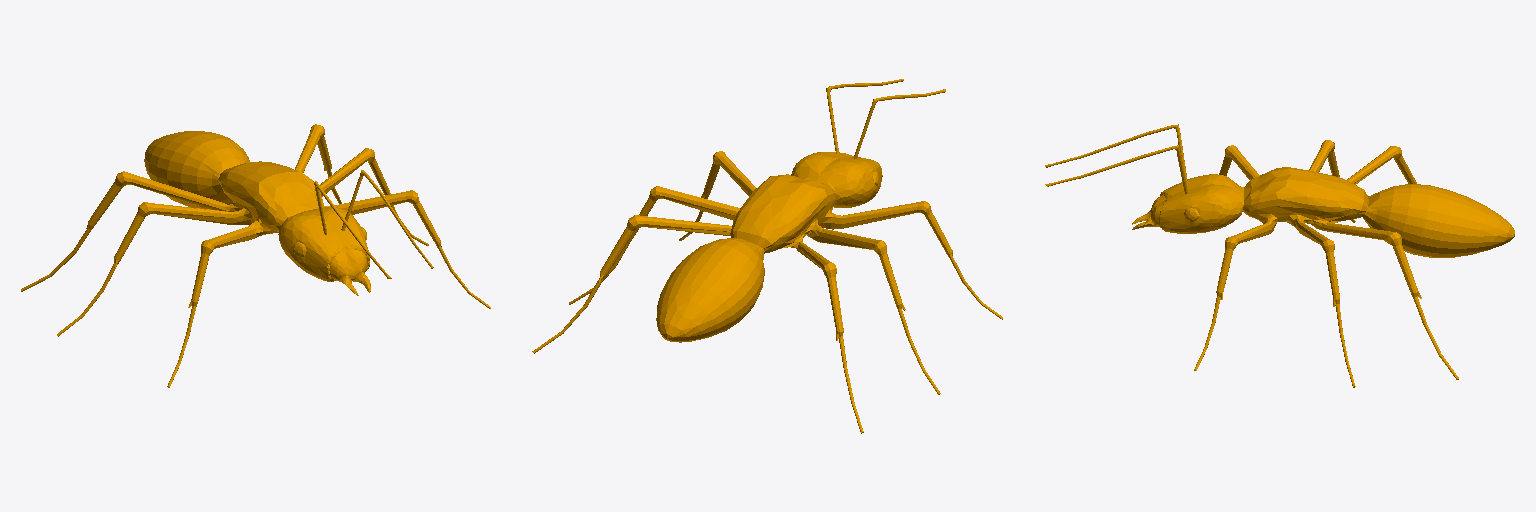
robot.urdf — object:
<?xml version="1.0"?>
<robot name="object">
  <link name="base_link"> <!-- required name-->
    <inertial>
      <origin xyz="0 0 0" /> 
      <mass value="1.0" />
      <inertia  ixx="1.0" ixy="0.0"  ixz="0.0"  iyy="1.0"  iyz="0.0"  izz="100.0" />
    </inertial>
    <visual>
      <origin xyz="0 0 0"/>
      <geometry>
        <mesh filename="package://animals_description/meshes/ant_black.dae"/>
      </geometry>
    </visual>
    <collision>
      <origin xyz="0 0 0"/>
      <geometry>
        <mesh filename="package://animals_description/meshes/ant_black.dae"/>
      </geometry>
    </collision>
  </link>
</robot>

--- Facts derived from the render (not from the file) ---
Views: 3 orthographic renders of the robot side by side, from view 1: azimuth 30°, elevation 25°; view 2: azimuth 150°, elevation 25°; view 3: azimuth 270°, elevation 25°.
Model object with 1 links and 0 joints (none), rooted at base_link, posed every joint at zero.
Visible links, largest first — view 1: base_link; view 2: base_link; view 3: base_link.
Boxes of the visible links, bbox=[...] form: base_link: bbox=[21, 124, 490, 387]; base_link: bbox=[532, 79, 1002, 433]; base_link: bbox=[1045, 124, 1514, 387].
Size in the robot's own frame: 0.0843 by 0.1012 by 0.0408 metres.
Meshes: 1 distinct files referenced, 1 mesh visuals loaded (1 Collada DAE).